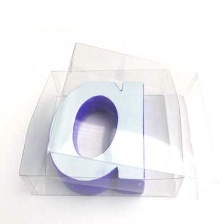plastic_box: (10, 36, 210, 207)
